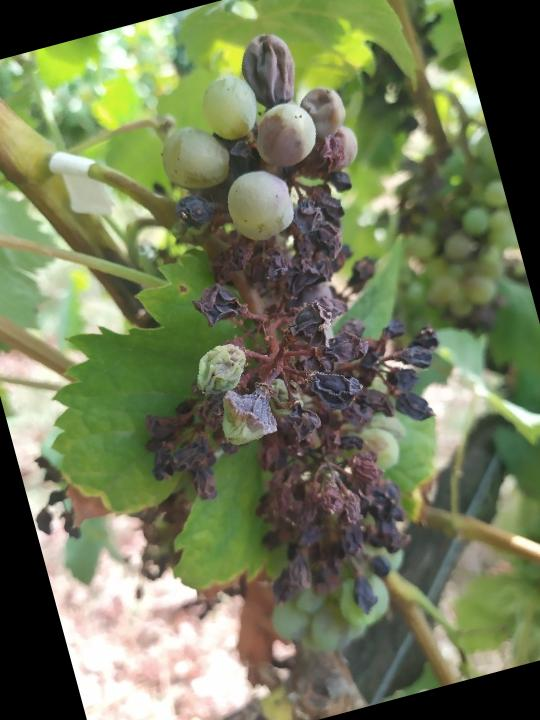grape: (41, 6, 509, 663)
